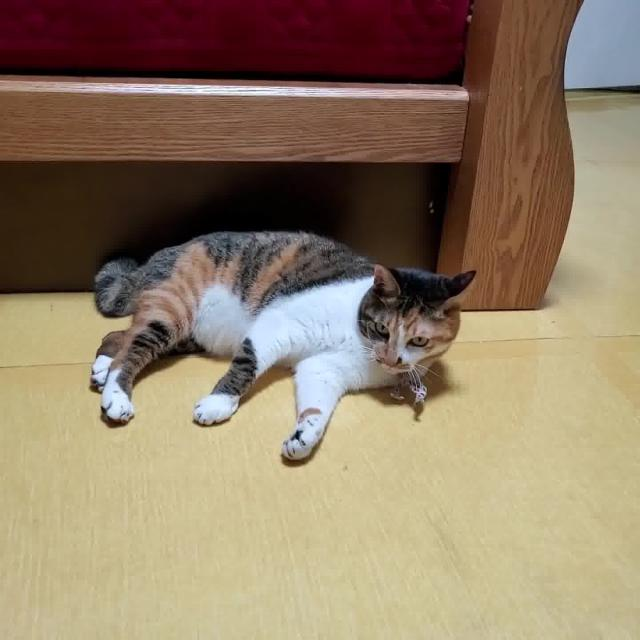cat: (78, 218, 483, 465)
